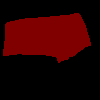mutande: (3, 13, 91, 63)
